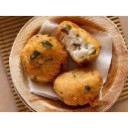bonda: (21, 33, 66, 79), (58, 19, 104, 62), (54, 71, 104, 105)
